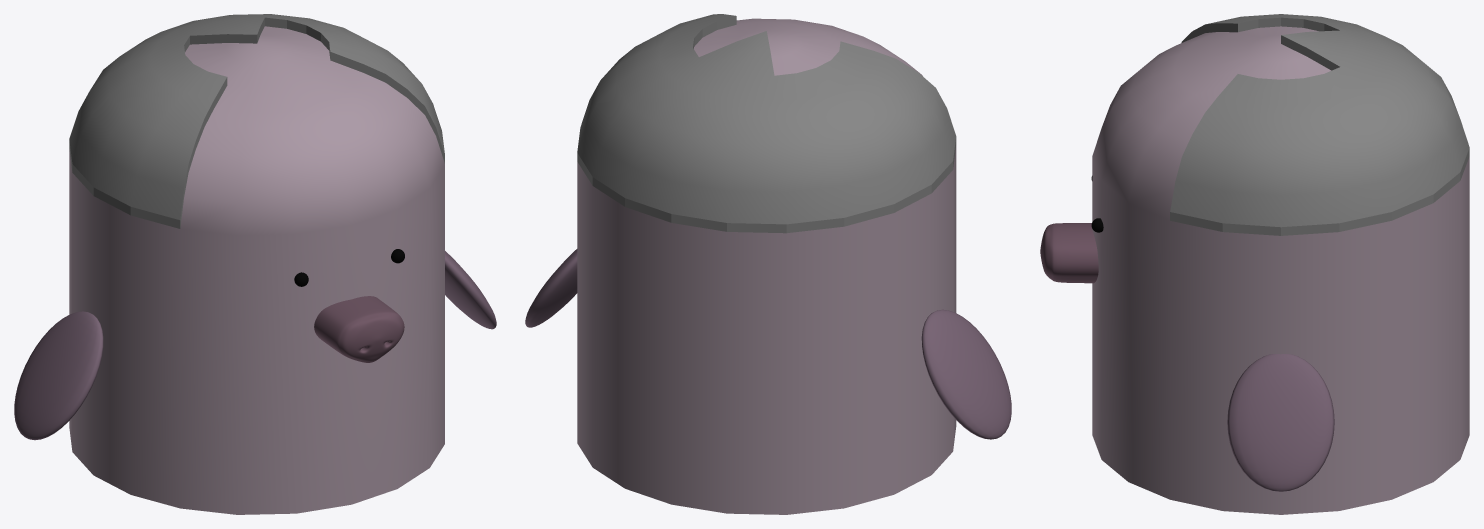
The model's file is Moberly mole.fbx.
The picture shows the model from 3 angles, left to right: view 1: azimuth 30°, elevation 25°; view 2: azimuth 150°, elevation 25°; view 3: azimuth 270°, elevation 25°; orthographic projection.
Parts seen in each view (by area): view 1: Body, Right_Hand, Nose, Left_Hand; view 2: Body, Right_Hand, Left_Hand; view 3: Body, Left_Hand, Nose.
Part boxes in pixels (box(x1,y1,x2,y2)): Body: box(69, 14, 444, 514); Right_Hand: box(14, 311, 103, 440); Nose: box(314, 296, 404, 362); Left_Hand: box(445, 251, 496, 329); Body: box(577, 14, 956, 514); Right_Hand: box(921, 309, 1011, 439); Left_Hand: box(525, 249, 577, 327); Body: box(1092, 14, 1469, 514); Left_Hand: box(1227, 354, 1334, 491); Nose: box(1040, 223, 1098, 283).
Size of the model in its own units: 516 by 425 by 413.
